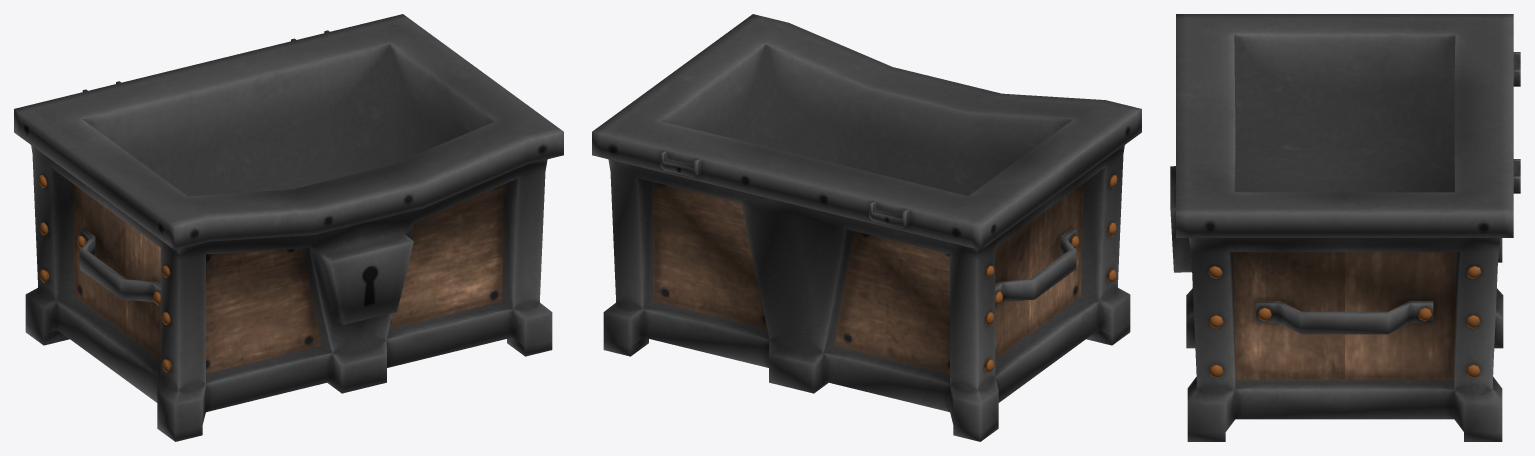
The model's file is hd_metalWoodOldChest_a_main.glb.
3 renders of one model, left to right at view 1: azimuth 30°, elevation 25°; view 2: azimuth 150°, elevation 25°; view 3: azimuth 270°, elevation 25°, orthographic. The views are drawn at different scales.
Parts seen in each view (by area): view 1: hd_metalWoodOldChest_a_DefaultMaterial_Albedo.jpg__; view 2: hd_metalWoodOldChest_a_DefaultMaterial_Albedo.jpg__; view 3: hd_metalWoodOldChest_a_DefaultMaterial_Albedo.jpg__.
Boxes of the visible parts, <box> form: hd_metalWoodOldChest_a_DefaultMaterial_Albedo.jpg__: <box>14,14,563,441</box>; hd_metalWoodOldChest_a_DefaultMaterial_Albedo.jpg__: <box>592,14,1141,441</box>; hd_metalWoodOldChest_a_DefaultMaterial_Albedo.jpg__: <box>1170,14,1520,441</box>.
Bounding box in the file's own units: 1.72 × 0.9353 × 1.28.
Materials: 1 (1 with a texture image).
